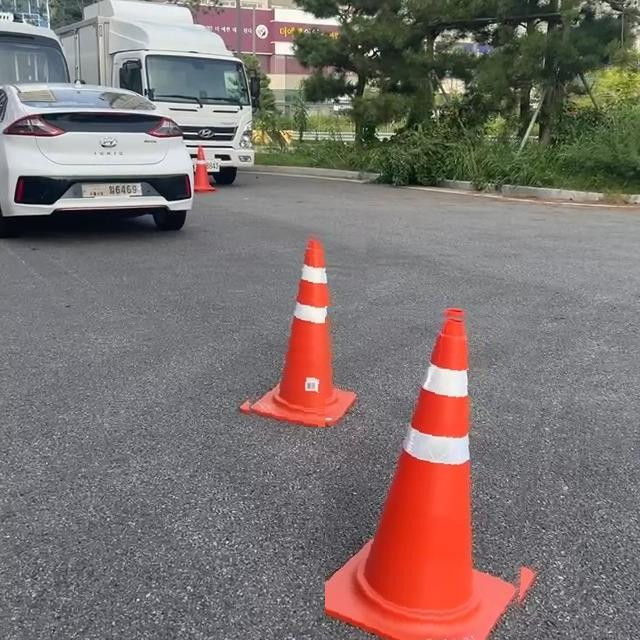fallen_object: (343, 246, 522, 640), (209, 189, 345, 432), (169, 133, 240, 223)
